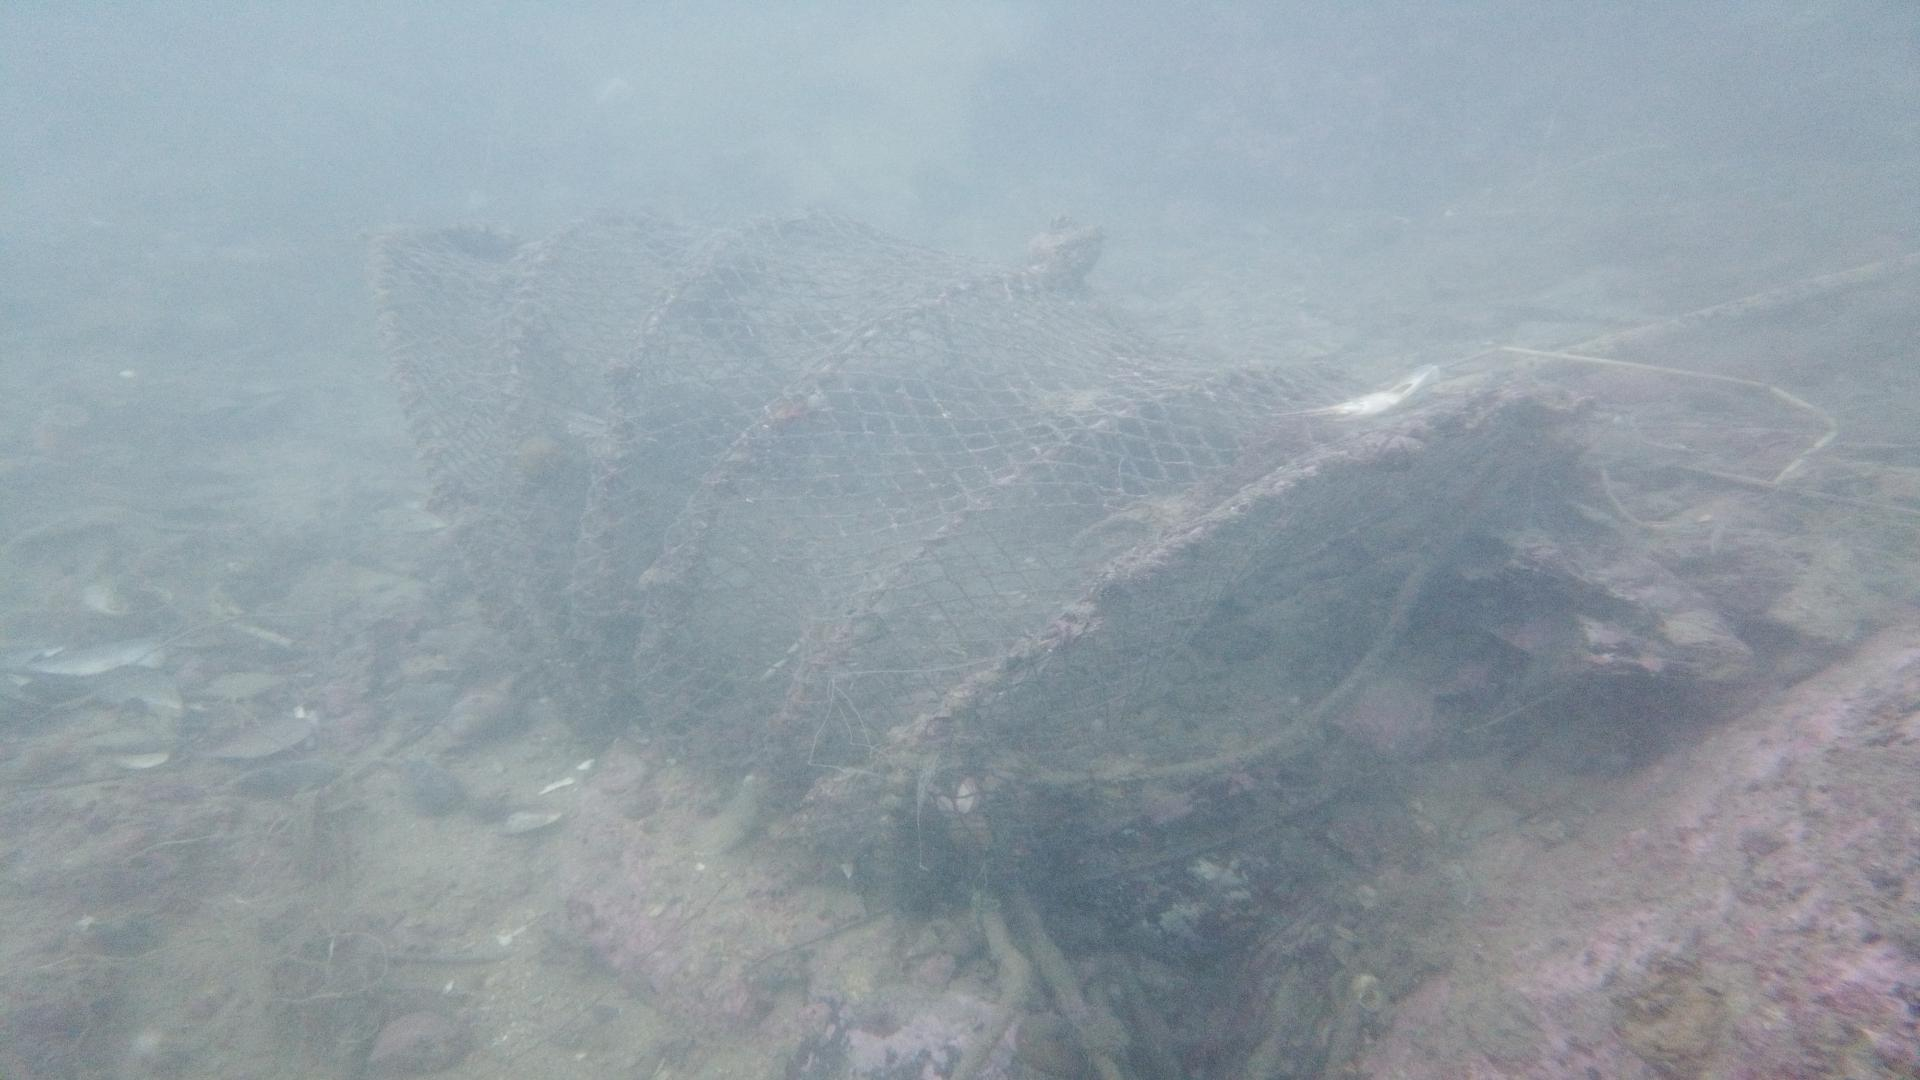spring fish trap: (353, 204, 1549, 916)
